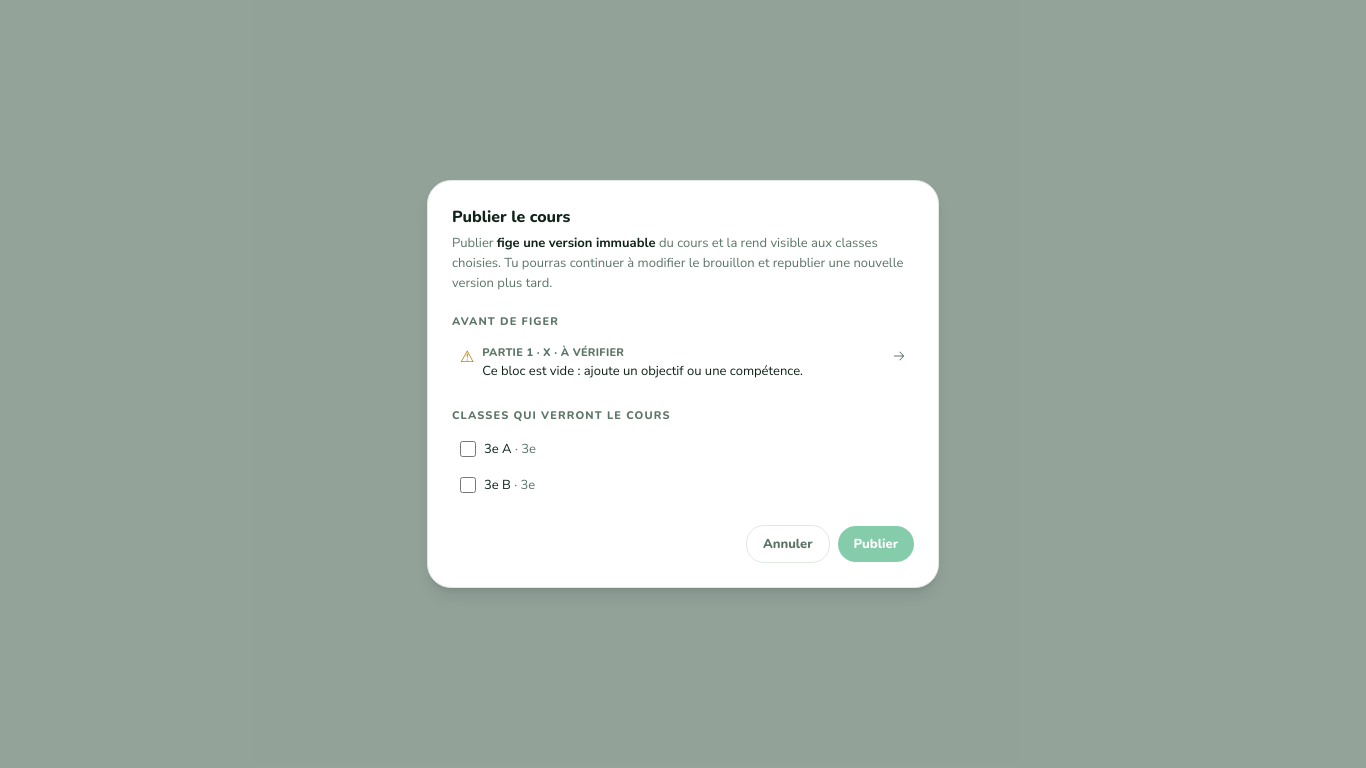
Test: PublierCours › laisse publier malgré un simple avertissement
The width and height of the screenshot is (1366, 768).
Step 1. Click the checkbox labelled "3e A · 3e" → (468, 449), box 460,441 -> 476,457
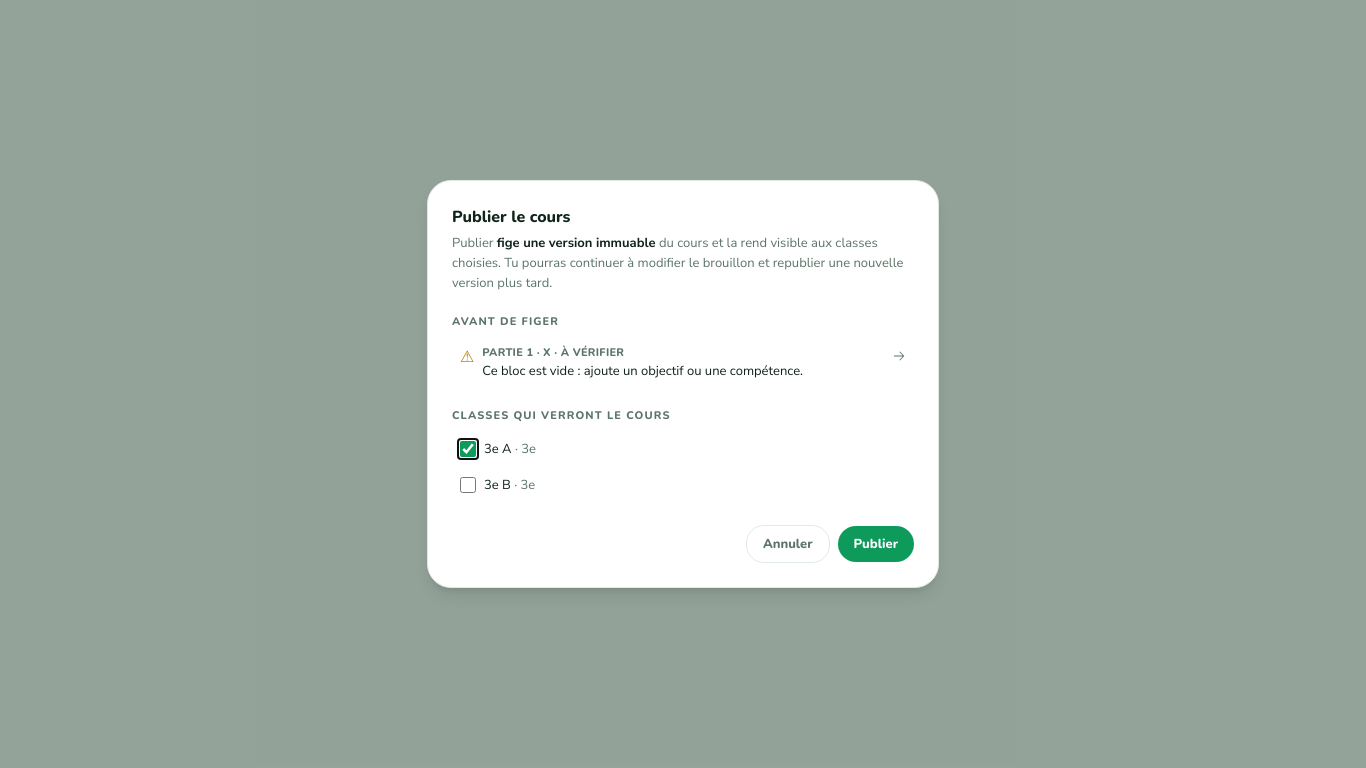
Expected: the text "Partie 1 · x · à vérifier" is shown, 482,345 -> 624,360
Now the button "Publier" is enabled, box 838,526 -> 914,562
